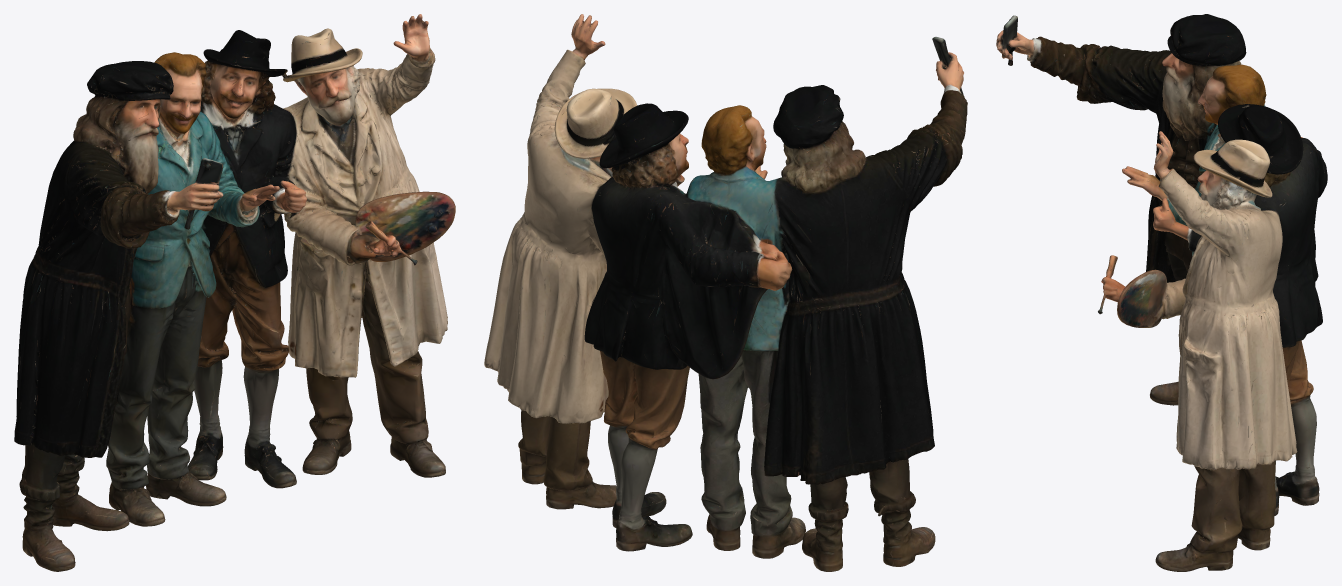
File: DVVM_Selfy-c.glb
3 views of the same model, side by side, from view 1: azimuth 30°, elevation 25°; view 2: azimuth 150°, elevation 25°; view 3: azimuth 270°, elevation 25° (orthographic). The views are drawn at different scales.
Visible parts, largest first — view 1: Mesh1.0; view 2: Mesh1.0, Mesh1.001; view 3: Mesh1.0.
Part boxes in pixels (<box>): Mesh1.0: <box>14,14,455,571</box>; Mesh1.0: <box>484,14,967,571</box>; Mesh1.001: <box>639,237,761,379</box>; Mesh1.0: <box>996,14,1327,571</box>.
Size of the model in its own units: 1.88 by 1.9 by 1.35.
1 material, 1 textured.
